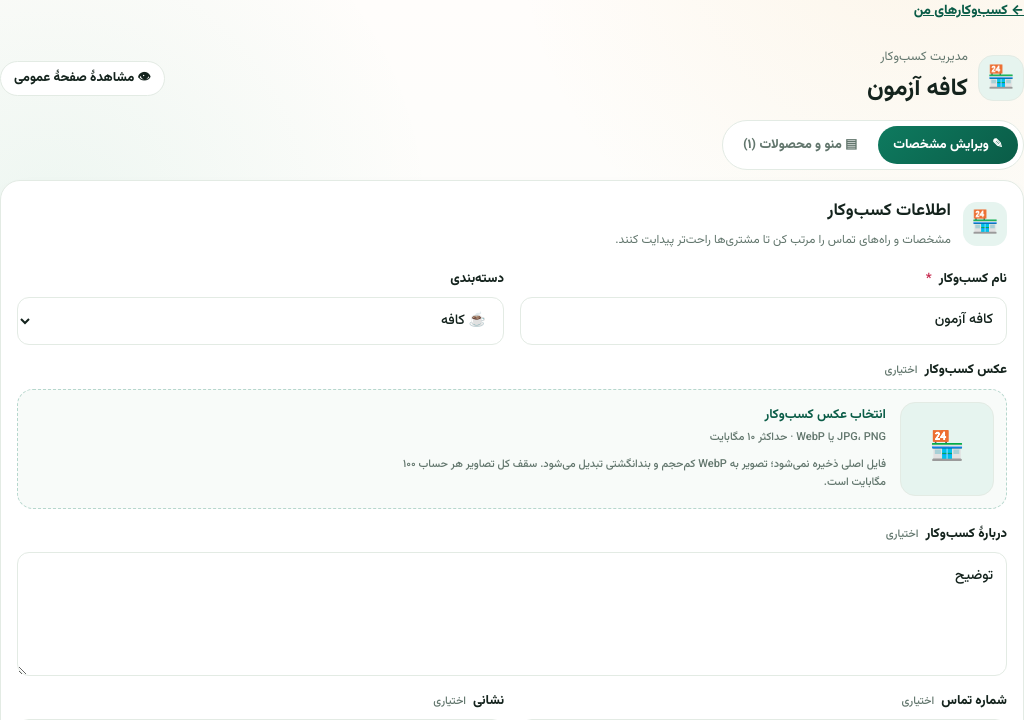
Test: BusinessManage (ویرایش + منو و محصولات) › opens the edit form pre-filled from an existing row
Check: the field with test id "biz-name" is shown, box [520, 298, 1007, 345]
Click the button with test id "biz-tab-menu": click(800, 145) [728, 126, 872, 164]
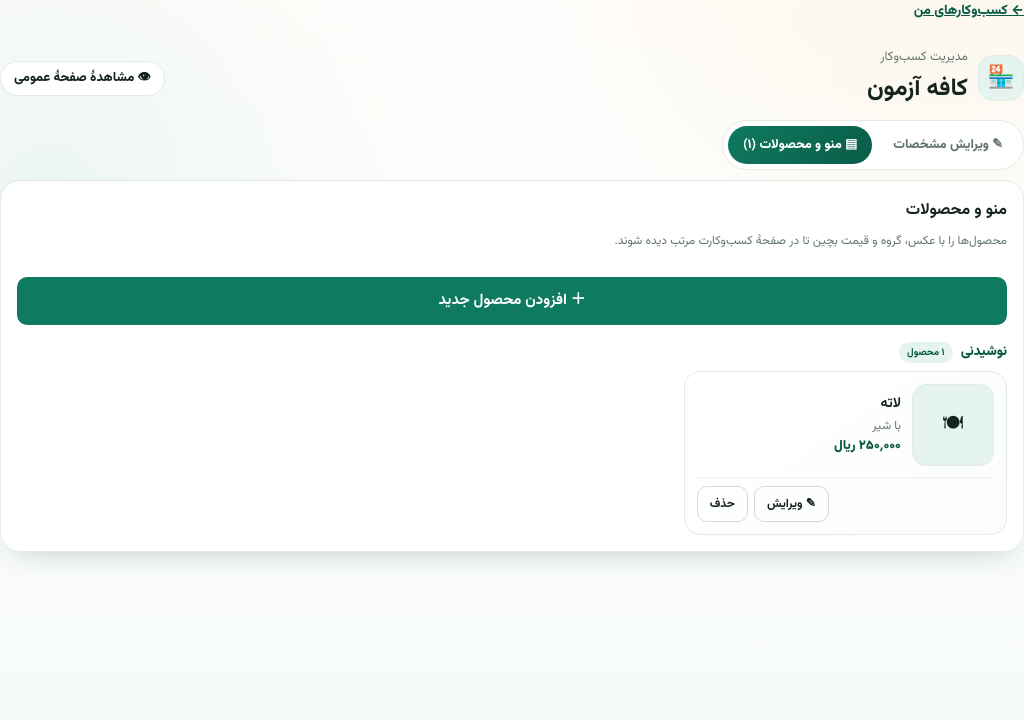
Click the button with test id "product-edit-11": click(791, 504) [754, 486, 829, 522]
(page scrolled)
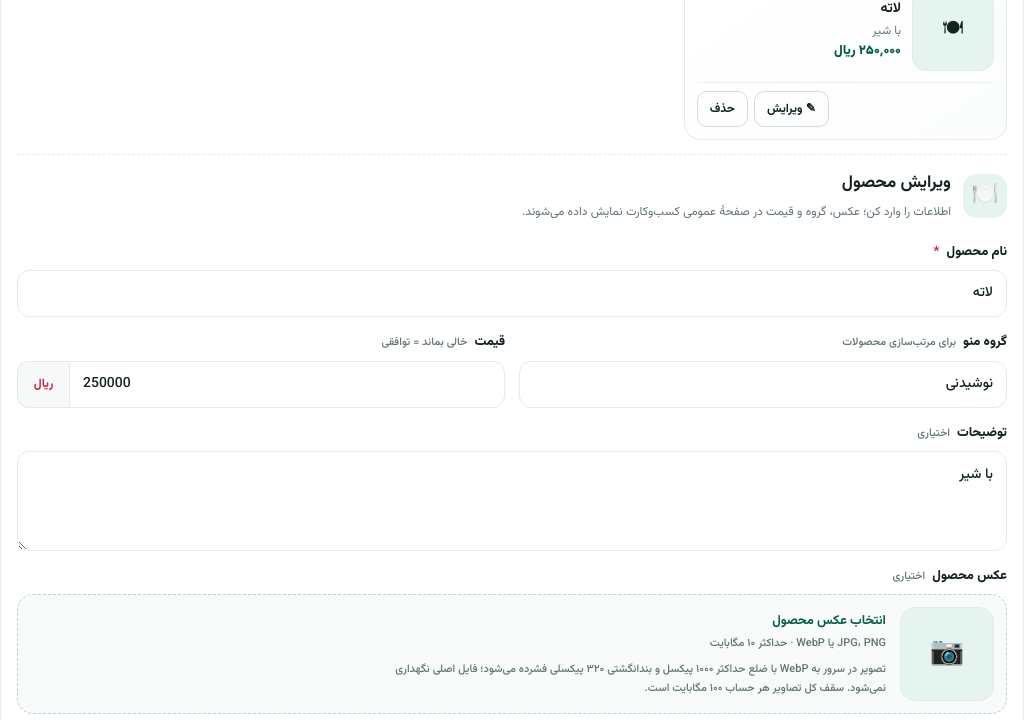
Check: the field with test id "product-name" holds "لاته", box [17, 270, 1007, 318]
Check: the field with test id "product-price" holds "250000", box [69, 360, 505, 408]
